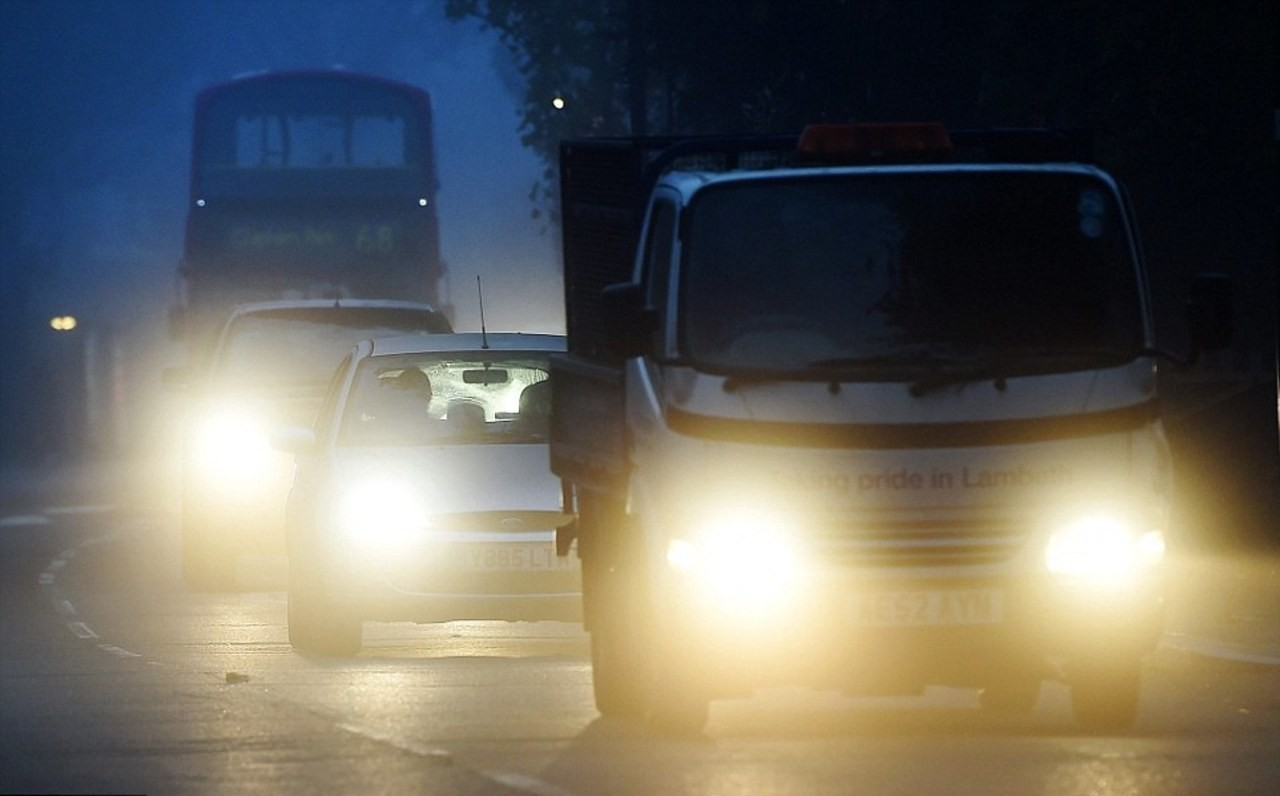bus: (169, 68, 452, 464)
car: (271, 341, 637, 661), (187, 302, 476, 589)
truck: (548, 130, 1182, 726)
